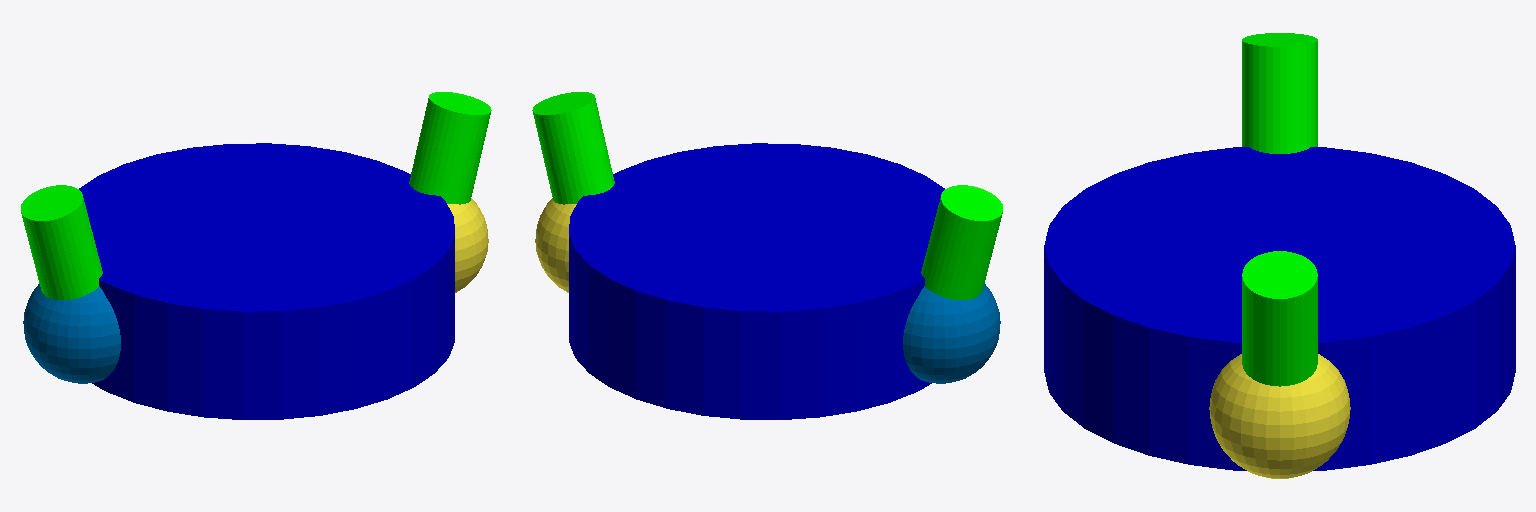
The robot description file, URDF, robot "gripper_2f_1j":
<?xml version='1.0' encoding='UTF-8'?>
<robot name="gripper_2f_1j">
  <link name="palm">
    <inertial>
      <origin xyz="0.0 0.0 0.0" rpy="0.0 -0.0 0.0"/>
      <mass value="1.0"/>
      <inertia ixx="1.0" ixy="0.0" ixz="0.0" iyy="1.0" iyz="0.0" izz="1.0"/>
    </inertial>
    <visual>
      <geometry>
        <cylinder radius="0.05" length="0.03"/>
      </geometry>
      <material name="blue"/>
      <origin xyz="0.0 0.0 0.0" rpy="0.0 -0.0 0.0"/>
    </visual>
    <collision>
      <geometry>
        <cylinder radius="0.05" length="0.03"/>
      </geometry>
      <origin xyz="0.0 0.0 0.0" rpy="0.0 0.0 0.0"/>
    </collision>
  </link>
  <link name="f11">
    <inertial>
      <origin xyz="0.0 0.0 0.0" rpy="0.0 -0.0 0.0"/>
      <mass value="1.0"/>
      <inertia ixx="1.0" ixy="0.0" ixz="0.0" iyy="1.0" iyz="0.0" izz="1.0"/>
    </inertial>
    <visual>
      <geometry>
        <cylinder radius="0.008033586393518434" length="0.03663931314959"/>
      </geometry>
      <material name="green"/>
      <origin xyz="0.0 0.0 0.018319656574795" rpy="0.0 -0.0 0.0"/>
    </visual>
    <collision>
      <geometry>
        <cylinder radius="0.008033586393518434" length="0.03663931314959"/>
      </geometry>
      <origin xyz="0.0 0.0 0.05" rpy="0.0 0.0 0.0"/>
    </collision>
  </link>
  <link name="f21">
    <inertial>
      <origin xyz="0.0 0.0 0.0" rpy="0.0 -0.0 0.0"/>
      <mass value="1.0"/>
      <inertia ixx="1.0" ixy="0.0" ixz="0.0" iyy="1.0" iyz="0.0" izz="1.0"/>
    </inertial>
    <visual>
      <geometry>
        <cylinder radius="0.008033586393518434" length="0.03663931314959"/>
      </geometry>
      <material name="green"/>
      <origin xyz="0.0 0.0 0.018319656574795" rpy="0.0 -0.0 0.0"/>
    </visual>
    <collision>
      <geometry>
        <cylinder radius="0.008033586393518434" length="0.03663931314959"/>
      </geometry>
      <origin xyz="0.0 0.0 0.05" rpy="0.0 0.0 0.0"/>
    </collision>
  </link>
  <link name="f11_base">
    <inertial>
      <origin xyz="0.0 0.0 0.0" rpy="0.0 -0.0 0.0"/>
      <mass value="1.0"/>
      <inertia ixx="1.0" ixy="0.0" ixz="0.0" iyy="1.0" iyz="0.0" izz="1.0"/>
    </inertial>
    <visual>
      <geometry>
        <sphere radius="0.015"/>
      </geometry>
      <origin xyz="0.0 0.0 0.0" rpy="0.0 -0.0 0.0"/>
    </visual>
  </link>
  <link name="f21_base">
    <inertial>
      <origin xyz="0.0 0.0 0.0" rpy="0.0 -0.0 0.0"/>
      <mass value="1.0"/>
      <inertia ixx="1.0" ixy="0.0" ixz="0.0" iyy="1.0" iyz="0.0" izz="1.0"/>
    </inertial>
    <visual>
      <geometry>
        <sphere radius="0.015"/>
      </geometry>
      <origin xyz="0.0 0.0 0.0" rpy="0.0 -0.0 0.0"/>
    </visual>
  </link>
  <joint name="f11_joint" type="revolute">
    <dynamics damping="100.0" friction="1.0"/>
    <limit effort="30.0" velocity="2.0" lower="-0.6" upper="0.25"/>
    <parent link="f11_base"/>
    <child link="f11"/>
    <axis xyz="0. 1. 0."/>
    <origin xyz="0.0 0.0 0.0" rpy="0.0 0.25 0.0"/>
  </joint>
  <joint name="f21_joint" type="revolute">
    <dynamics damping="100.0" friction="1.0"/>
    <limit effort="30.0" velocity="2.0" lower="-0.6" upper="0.25"/>
    <parent link="f21_base"/>
    <child link="f21"/>
    <axis xyz=" 0. -1.  0."/>
    <origin xyz="0.0 0.0 0.0" rpy="0.0 -0.25 0.0"/>
  </joint>
  <joint name="f11_base_joint" type="fixed">
    <parent link="palm"/>
    <child link="f11_base"/>
    <axis xyz="1. 0. 0."/>
    <origin xyz="0.05 0.0 0.0" rpy="0.0 0.0 0.0"/>
  </joint>
  <joint name="f21_base_joint" type="fixed">
    <parent link="palm"/>
    <child link="f21_base"/>
    <axis xyz="1. 0. 0."/>
    <origin xyz="-0.05 -0.0 0.0" rpy="0.0 0.0 0.0"/>
  </joint>
  <material name="blue">
    <color rgba="0.  0.  0.8 1. "/>
  </material>
  <material name="green">
    <color rgba="0. 1. 0. 1."/>
  </material>
</robot>

--- Render facts (derived) ---
3 views of the same robot in one strip: view 1: azimuth 30°, elevation 25°; view 2: azimuth 150°, elevation 25°; view 3: azimuth 270°, elevation 25° (orthographic).
Robot: gripper_2f_1j — 5 links, 4 joints (2 revolute, 2 fixed); root link palm; default pose: every joint at zero.
Visible links, largest first — view 1: palm, f21_base, f21, f11, f11_base; view 2: palm, f21_base, f21, f11, f11_base; view 3: palm, f11_base, f11, f21.
Boxes of the visible links, box(x1,y1,x2,y2) form: palm: box(79, 143, 454, 419); f21_base: box(23, 284, 120, 383); f21: box(21, 185, 102, 299); f11: box(409, 92, 491, 204); f11_base: box(447, 198, 488, 292); palm: box(569, 143, 944, 419); f21_base: box(903, 284, 1000, 383); f21: box(921, 185, 1002, 299); f11: box(532, 92, 614, 204); f11_base: box(535, 198, 576, 292); palm: box(1044, 147, 1515, 470); f11_base: box(1209, 354, 1350, 478); f11: box(1242, 251, 1317, 386); f21: box(1242, 33, 1317, 153).
Bounding box of the posed robot: 0.1337 × 0.1 × 0.0525 m (x, y, z).
Geometry: primitives only (box / cylinder / sphere), no mesh files.